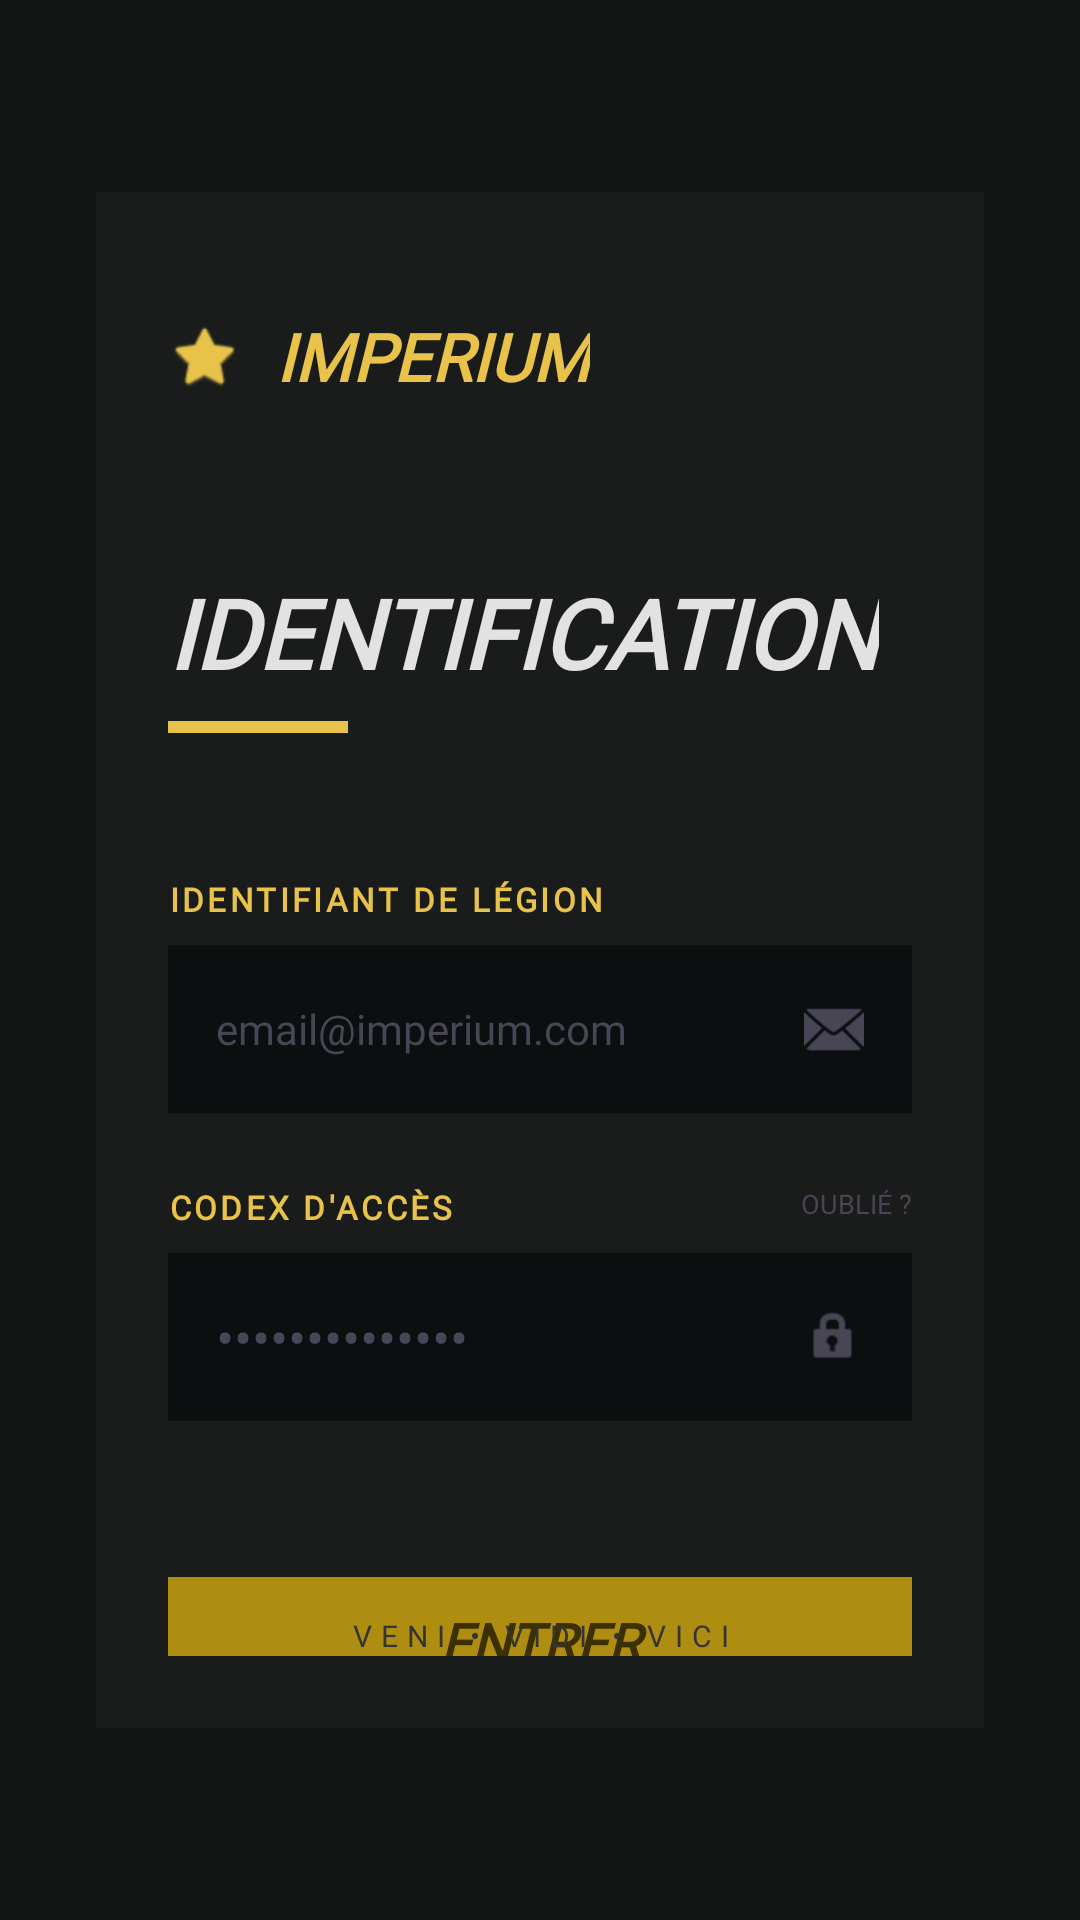

Named icons in this screenshot (1080×1920) and their centers, (x,y):
lock idle: (832,1335)
star on: (205,356)
